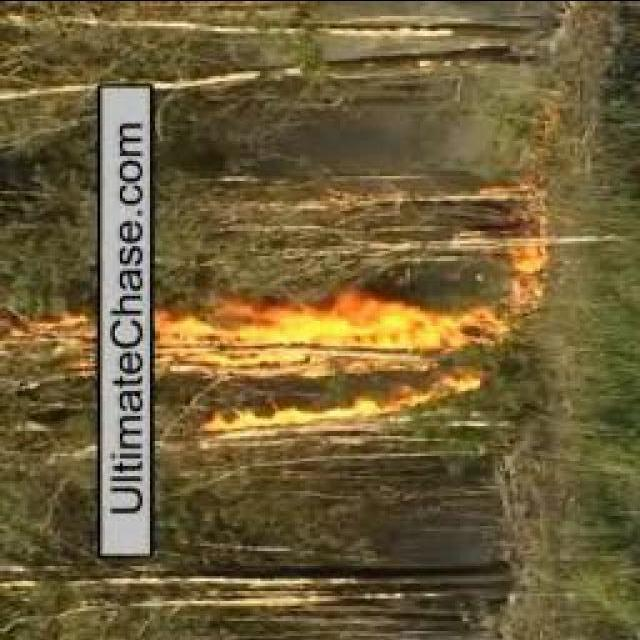Fire: (206, 290, 484, 450), (48, 313, 210, 387), (513, 243, 556, 305)
